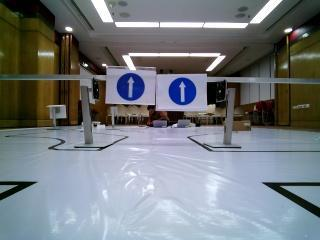straight: (157, 74, 208, 111), (106, 68, 153, 103)
